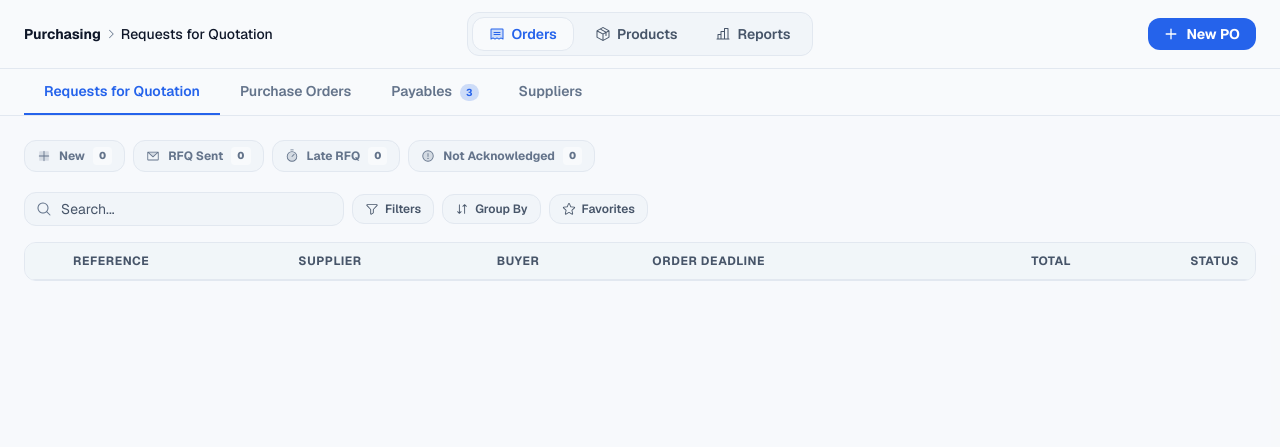
Scenario: PurchasingModule defect visibility › lists Problem Reported and Returned to Supplier POs on the Purchase Orders tab
The width and height of the screenshot is (1280, 447).
What coordinates should you click on to do the following:
click the button "Purchase Orders"
I would click on:
 (296, 92)
Its box is [220,69,371,115].
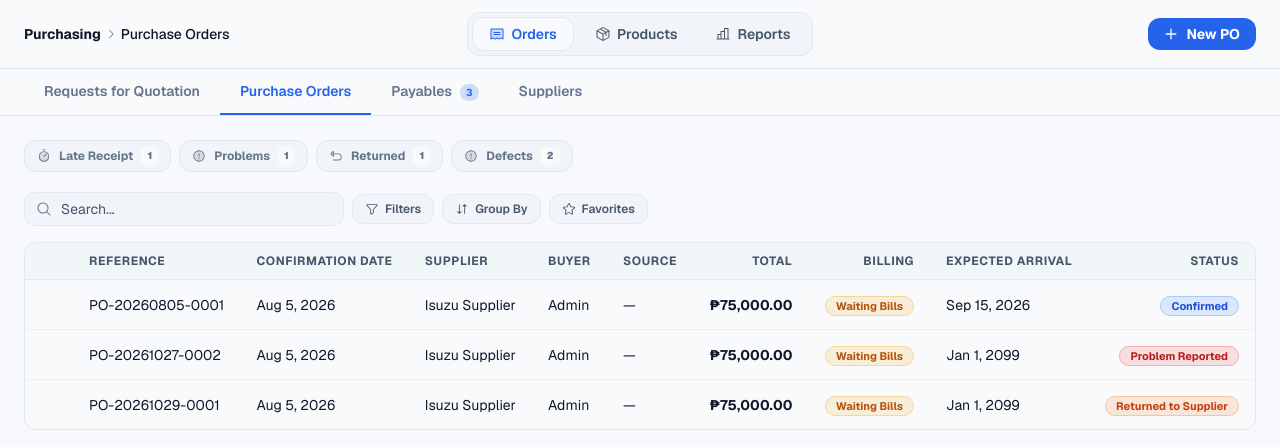
Expected: the text "PO-20261027-0002" is shown, [73,330,240,380]
Expected: the text "PO-20261029-0001" is shown, [73,380,240,429]
Expected: the text "Problem Reported" is shown, [1119,346,1239,366]
